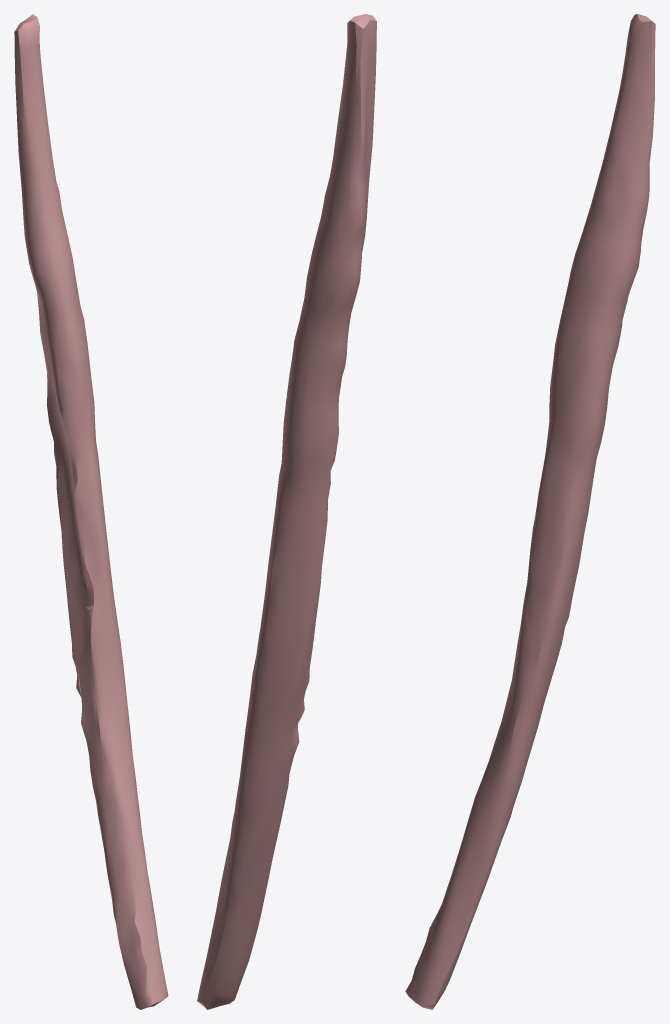
File: fma297786_mm1853m.glb
The picture shows the model from 3 angles, left to right: view 1: azimuth 30°, elevation 25°; view 2: azimuth 210°, elevation 25°; view 3: azimuth 270°, elevation 25°; orthographic projection. The views are drawn at different scales.
Visible parts, largest first — view 1: FMA297786_MM1853M; view 2: FMA297786_MM1853M; view 3: FMA297786_MM1853M.
Part boxes in pixels (bbox=[...]): FMA297786_MM1853M: bbox=[14, 14, 168, 1009]; FMA297786_MM1853M: bbox=[197, 14, 376, 1009]; FMA297786_MM1853M: bbox=[405, 14, 655, 1009].
Bounding box in the file's own units: 0.0118 × 0.1733 × 0.0402.
